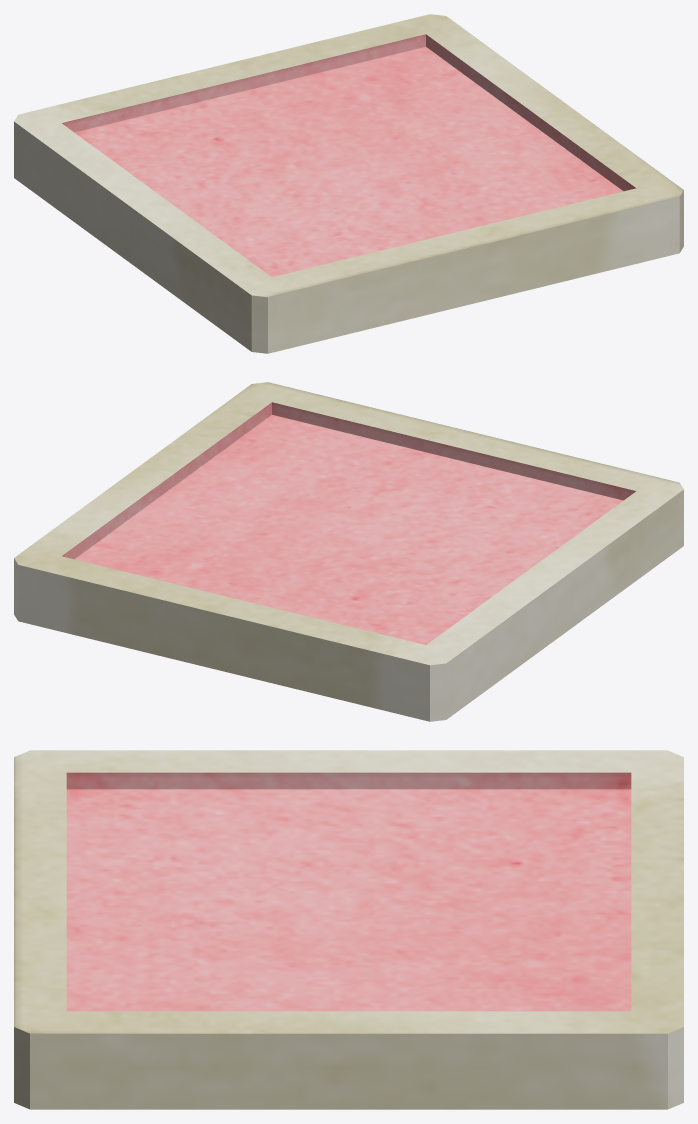
The model's file is Basic_Box.fbx.
The picture shows the model from 3 angles, top to bottom: view 1: azimuth 30°, elevation 25°; view 2: azimuth 150°, elevation 25°; view 3: azimuth 270°, elevation 25°; orthographic projection. The views are drawn at different scales.
Visible parts, largest first — view 1: Box007; view 2: Box007; view 3: Box007.
Boxes of the visible parts, box(x1,y1,x2,y2) form: Box007: box(14, 14, 683, 353); Box007: box(14, 382, 683, 721); Box007: box(14, 750, 683, 1109).
Bounding box in the file's own units: 31.5 × 3.94 × 31.5.
Materials: 1 (1 with a texture image).
